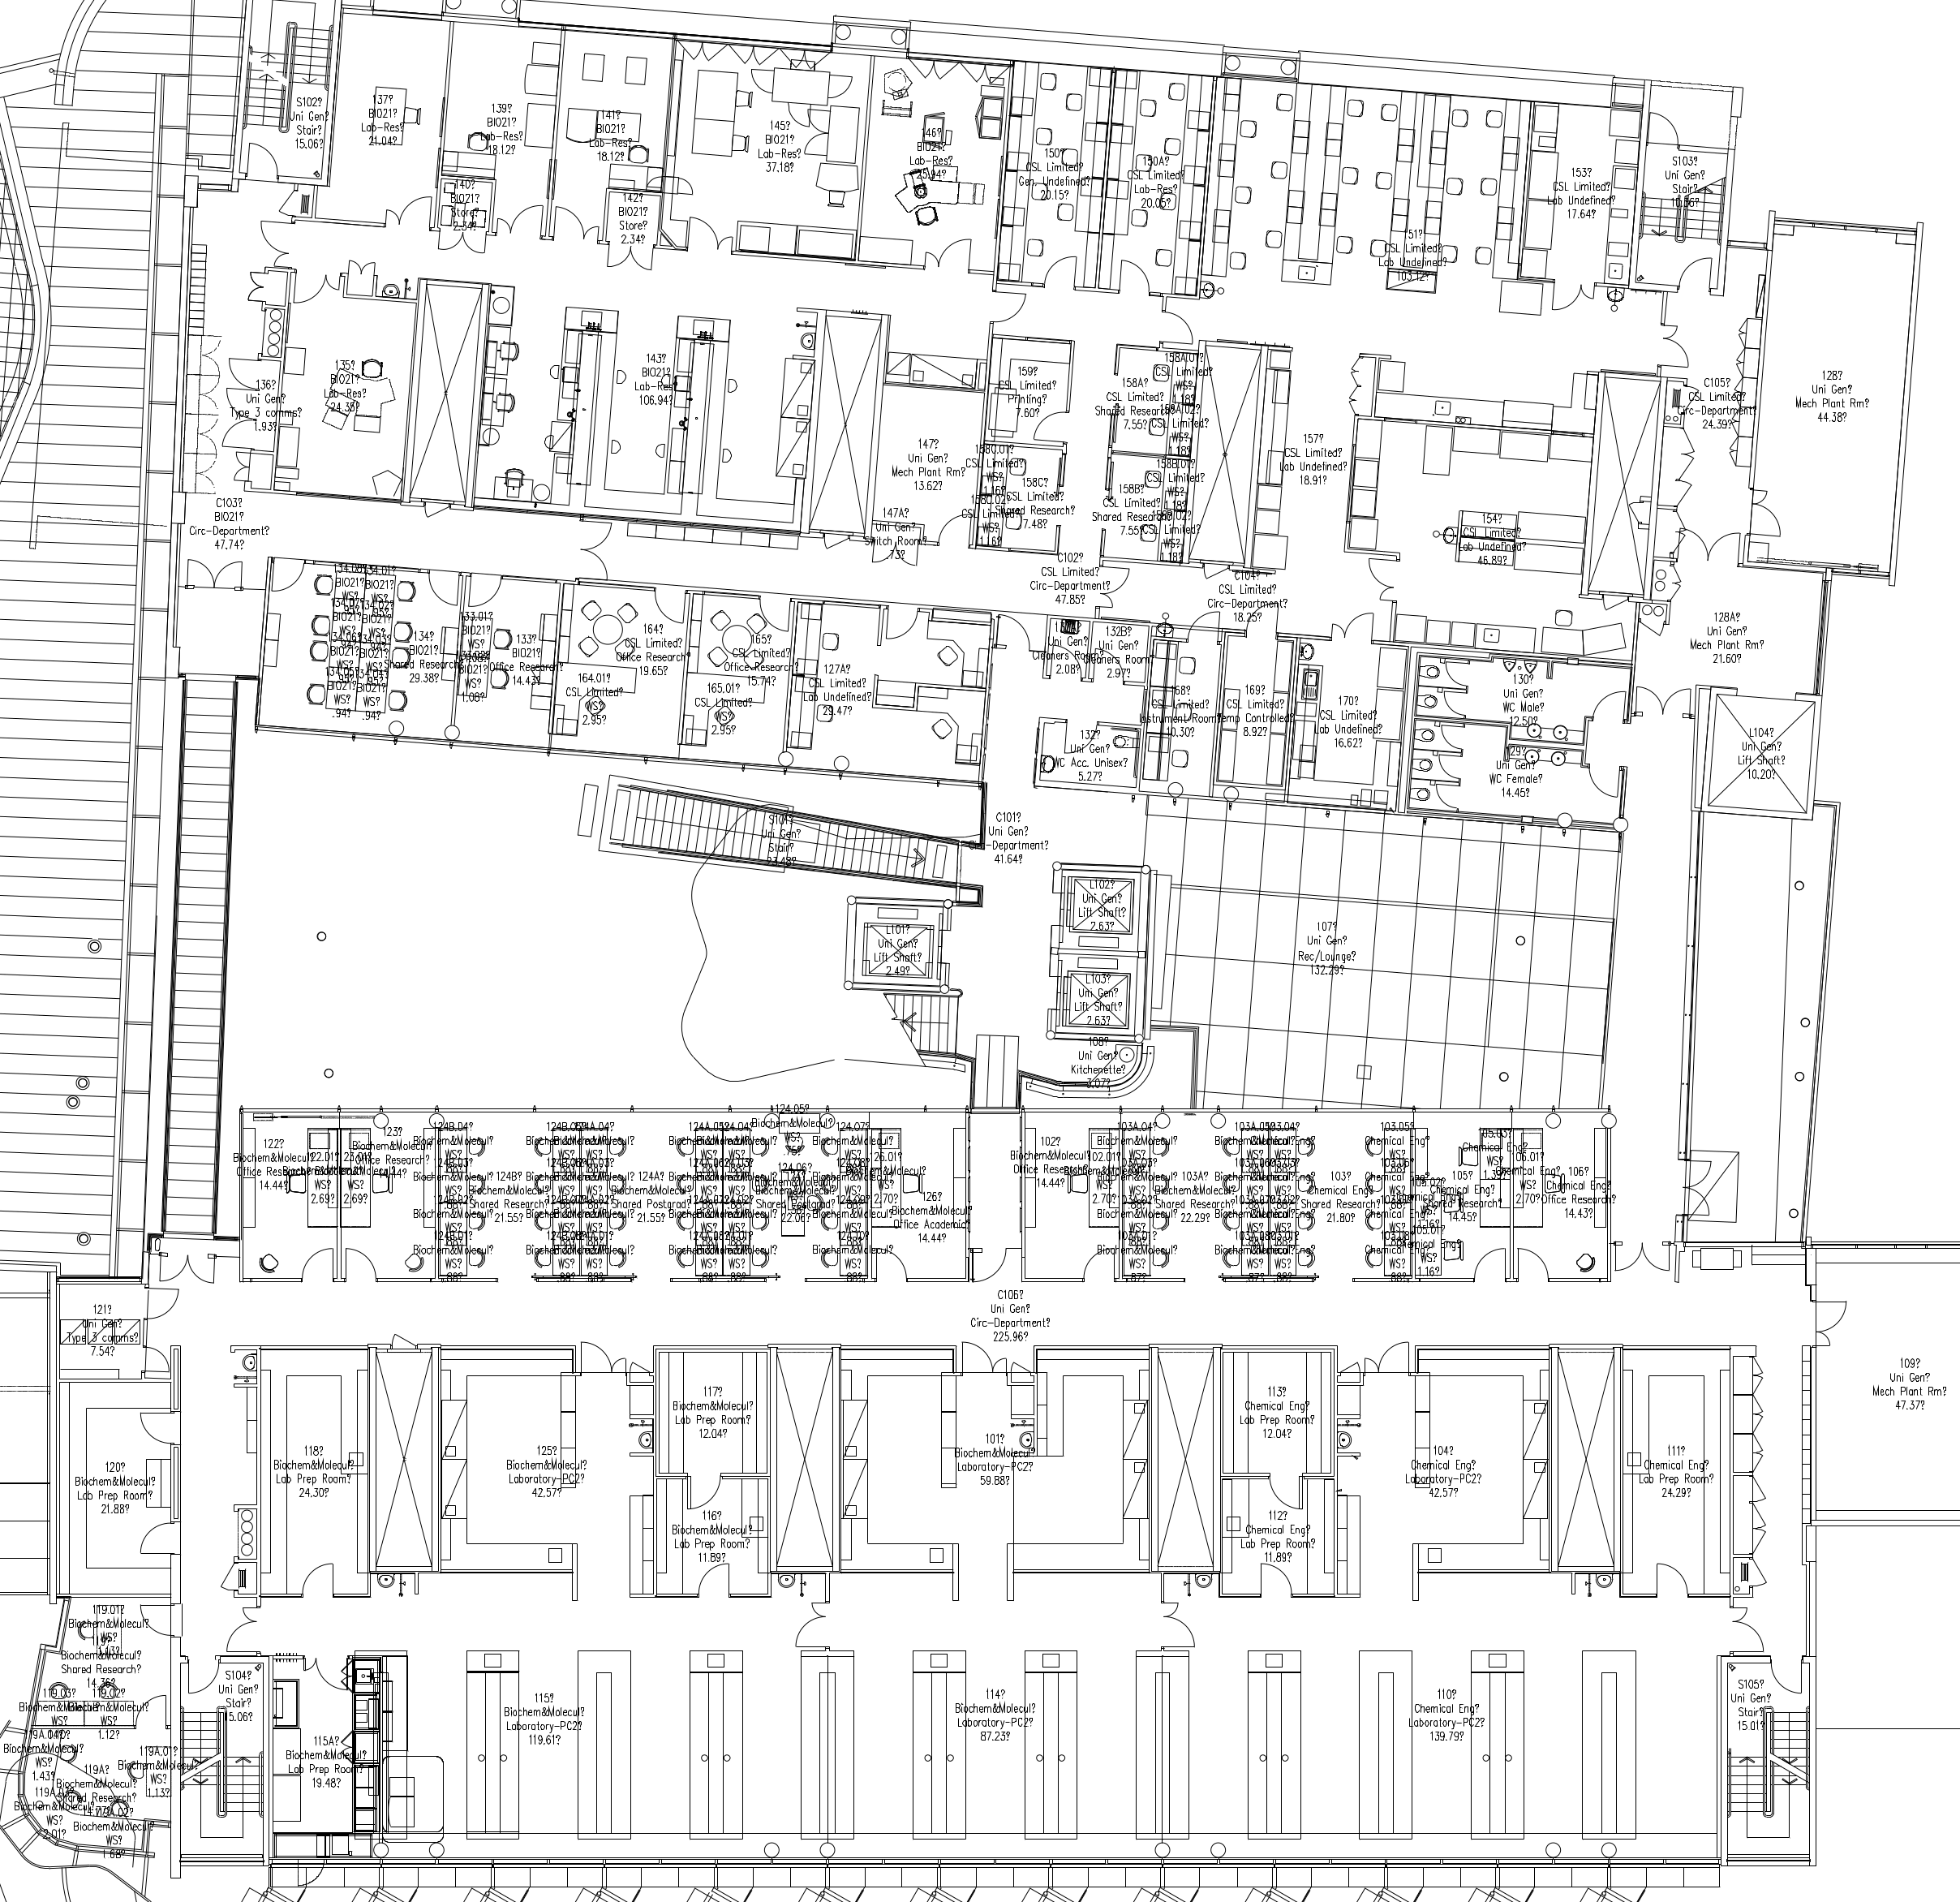door: (178, 549, 247, 593), (1673, 527, 1745, 567), (1627, 681, 1699, 721), (920, 236, 983, 280), (378, 191, 434, 240), (495, 201, 544, 257), (777, 1599, 833, 1648), (1146, 1598, 1202, 1647), (576, 518, 616, 581), (1746, 483, 1788, 542), (1676, 1157, 1718, 1216), (1809, 1291, 1851, 1351), (1725, 1594, 1768, 1654), (156, 1249, 221, 1286), (1612, 1237, 1671, 1276), (551, 201, 600, 247), (255, 217, 297, 269), (1365, 555, 1403, 611), (1325, 607, 1377, 647), (1769, 1647, 1808, 1701), (301, 1648, 348, 1692), (686, 215, 735, 257), (1361, 1339, 1412, 1379), (222, 1601, 261, 1654), (1657, 318, 1694, 373), (1549, 275, 1599, 313), (959, 1339, 1010, 1377), (577, 1337, 628, 1375), (290, 268, 343, 304), (436, 222, 490, 257), (299, 1556, 336, 1606), (416, 485, 455, 532), (1092, 563, 1130, 611), (1029, 401, 1067, 448), (605, 240, 656, 275), (422, 563, 462, 607), (464, 567, 504, 611), (1183, 604, 1223, 647), (1514, 1244, 1554, 1288), (1255, 1559, 1295, 1603), (882, 600, 922, 642), (1263, 1470, 1304, 1512), (1652, 1559, 1692, 1601), (1242, 598, 1281, 642), (245, 136, 282, 182), (341, 257, 378, 303), (1584, 761, 1624, 801), (1046, 644, 1087, 684), (651, 584, 689, 626), (934, 507, 973, 549), (992, 611, 1031, 653), (1468, 1246, 1507, 1288), (1078, 1242, 1116, 1284), (268, 556, 306, 597), (754, 591, 793, 632), (1041, 252, 1080, 292), (1675, 255, 1715, 294), (1645, 108, 1683, 149), (1591, 686, 1629, 726), (1090, 646, 1129, 686), (1060, 716, 1099, 756), (182, 1655, 221, 1696), (693, 1559, 731, 1599), (990, 285, 1027, 327), (341, 1244, 378, 1286), (297, 1244, 334, 1286), (131, 1690, 168, 1732), (1158, 306, 1195, 346), (969, 1244, 1006, 1284), (873, 1246, 910, 1286), (143, 1284, 180, 1325), (138, 1410, 175, 1451), (135, 1515, 171, 1556), (136, 1601, 173, 1641), (684, 1472, 721, 1512), (1115, 259, 1151, 297), (1438, 719, 1470, 752), (226, 448, 254, 485), (240, 268, 268, 304), (138, 1344, 170, 1375), (1444, 658, 1473, 691), (1442, 689, 1472, 723), (1435, 752, 1465, 786), (1433, 782, 1463, 815), (278, 191, 299, 219), (628, 1358, 651, 1375)
